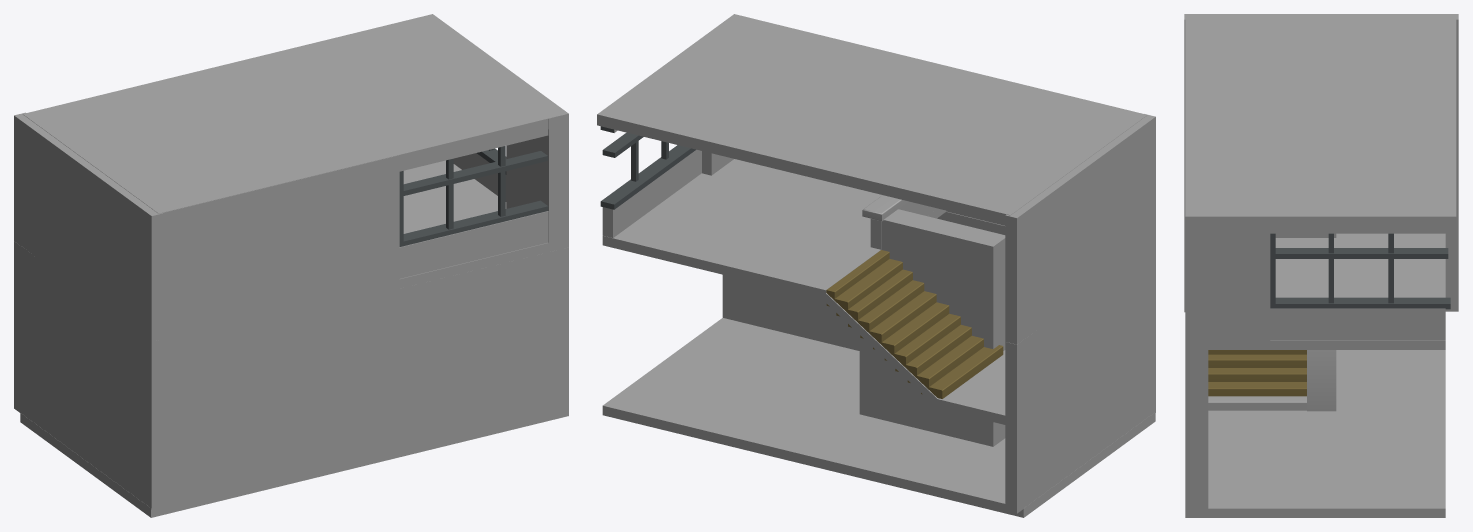
Rendered from Stairwell_Left.fbx.
3 renders of one model, left to right at view 1: azimuth 30°, elevation 25°; view 2: azimuth 150°, elevation 25°; view 3: azimuth 270°, elevation 25°, orthographic.
Parts seen in each view (by area): view 1: pPlane7, pPlane9, pCube81 (×2), pCube74, pCube75, pCube76 (×2), pPlane5, pPlane6, pCube80, pCube77; view 2: pPlane9, pPlane5, pCube74, pPlane6, pCube75, pPlane8, pPlane7, pCube76, pCube80, Staircase_Step_10, Staircase_Step_14, Staircase_Step_18 (+9 smaller); view 3: pPlane9, pPlane5, pPlane6, pCube81, pCube76, pPlane7, pCube80, pPlane8, pCube77, pCube75, pCube74, Staircase_Step_0 (+5 smaller).
Boxes of the visible parts, <box> form: pPlane7: <box>163,247,568,505</box>; pPlane9: <box>23,14,568,213</box>; pCube81 (×2): <box>148,113,568,346</box>; pCube74: <box>14,241,163,509</box>; pCube75: <box>14,112,163,341</box>; pCube76 (×2): <box>399,153,548,278</box>; pPlane5: <box>20,406,568,517</box>; pPlane6: <box>399,160,568,288</box>; pCube80: <box>399,129,548,246</box>; pCube77: <box>403,151,547,195</box>; pPlane9: <box>597,14,1147,224</box>; pPlane5: <box>602,318,1155,517</box>; pCube74: <box>1005,244,1155,513</box>; pPlane6: <box>602,159,946,298</box>; pCube75: <box>1005,114,1155,344</box>; pPlane8: <box>821,209,1005,446</box>; pPlane7: <box>722,211,1005,350</box>; pCube76: <box>602,149,701,237</box>; pCube80: <box>600,126,695,209</box>; Staircase_Step_10: <box>921,345,1003,398</box>; Staircase_Step_14: <box>873,302,949,353</box>; Staircase_Step_18: <box>826,259,902,309</box>; pPlane9: <box>1185,17,1456,227</box>; pPlane5: <box>1185,350,1445,517</box>; pPlane6: <box>1185,233,1445,349</box>; pCube81: <box>1185,216,1270,340</box>; pCube76: <box>1270,308,1445,340</box>; pPlane7: <box>1185,350,1208,508</box>; pCube80: <box>1270,227,1450,309</box>; pPlane8: <box>1208,350,1336,411</box>; pCube77: <box>1275,248,1448,258</box>; pCube75: <box>1184,14,1458,144</box>; pCube74: <box>1184,144,1458,312</box>; Staircase_Step_0: <box>1208,382,1306,396</box>.
Size of the model in its own units: 1033 by 714 by 590.
